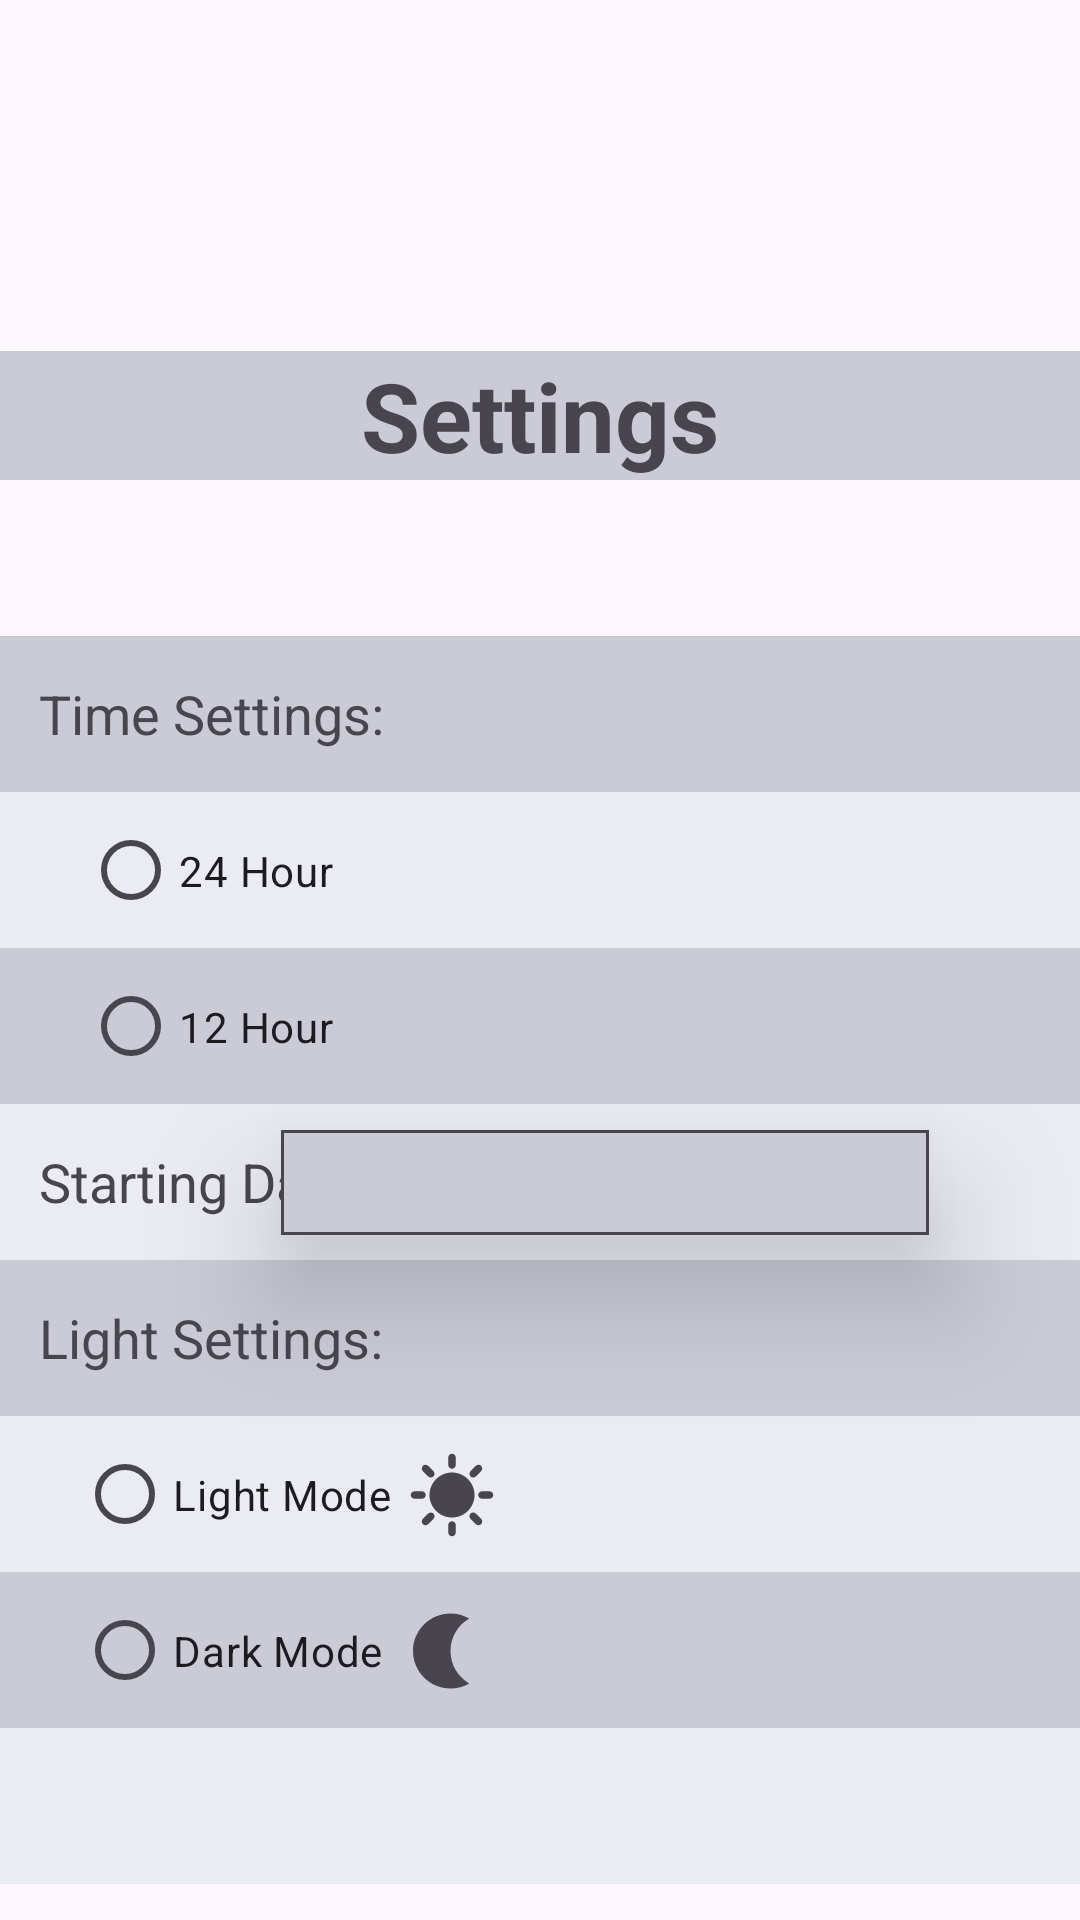

Named icons in this screenshot (1080x1920) and their bounding boxes, (left=x1, top=y1, right=x2, bottom=y2):
mode symbol: (left=410, top=1454, right=493, bottom=1536), (left=413, top=1613, right=469, bottom=1689)
